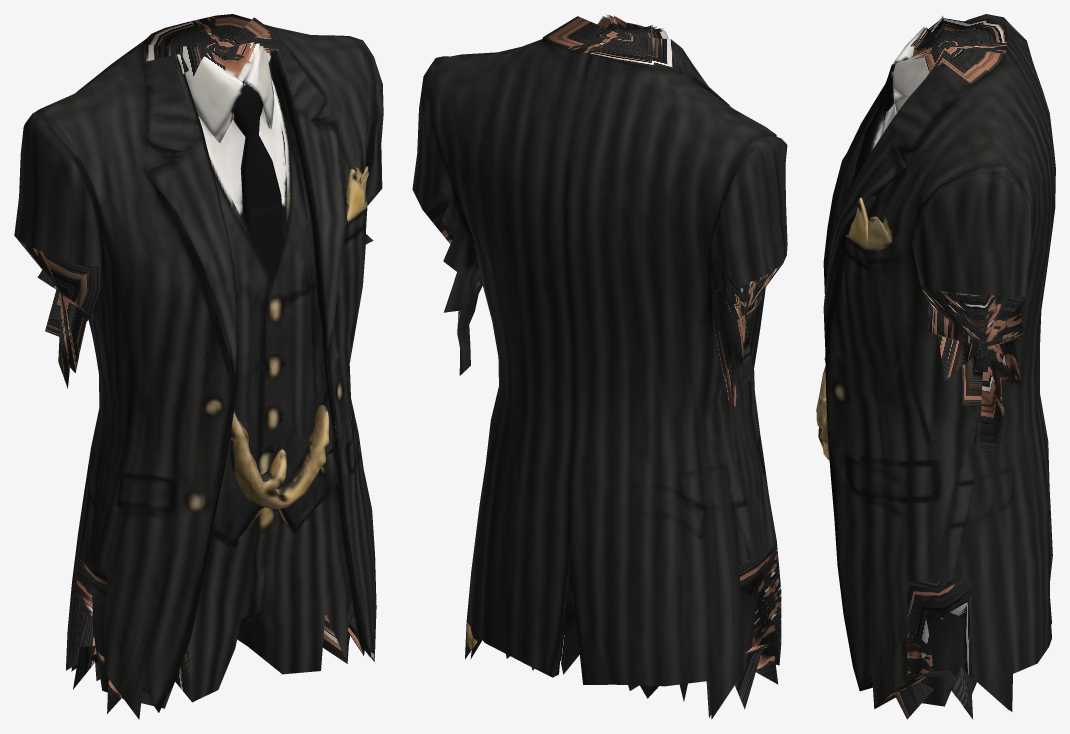
The model's file is torso.glb.
3 views of the same model, side by side, from view 1: azimuth 30°, elevation 25°; view 2: azimuth 150°, elevation 25°; view 3: azimuth 270°, elevation 25° (orthographic). The views are drawn at different scales.
Size of the model in its own units: 0.2573 by 0.437 by 0.1528.
Materials: 1 (1 with a texture image).
